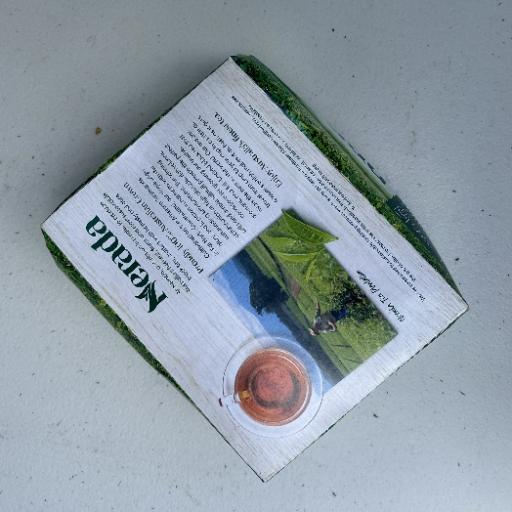Cardboard: (39, 52, 470, 484)
